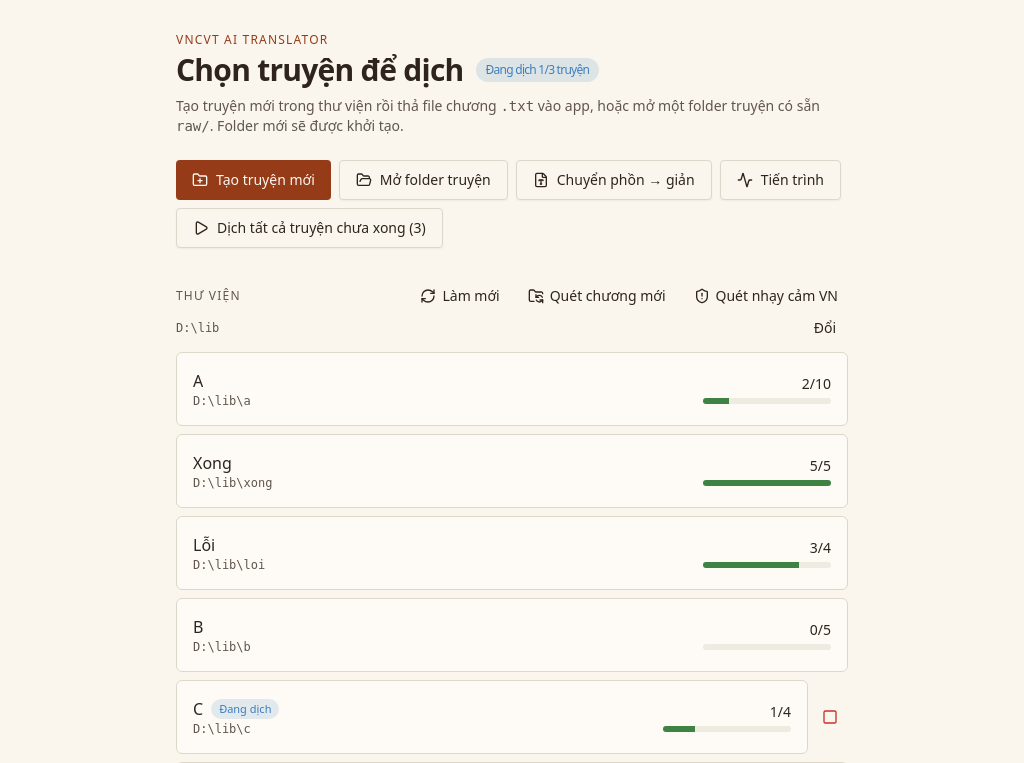
Test case: StoryPicker · Thư viện › Dịch tất cả truyện chưa xong › bỏ tick hết thì không bắt đầu được
The image size is (1024, 763).
Check: the text "A" is shown, box [193,369,203,393]
Click the button "Dịch tất cả truyện chưa xong (3)" at (309, 228), box [176,208,443,248]
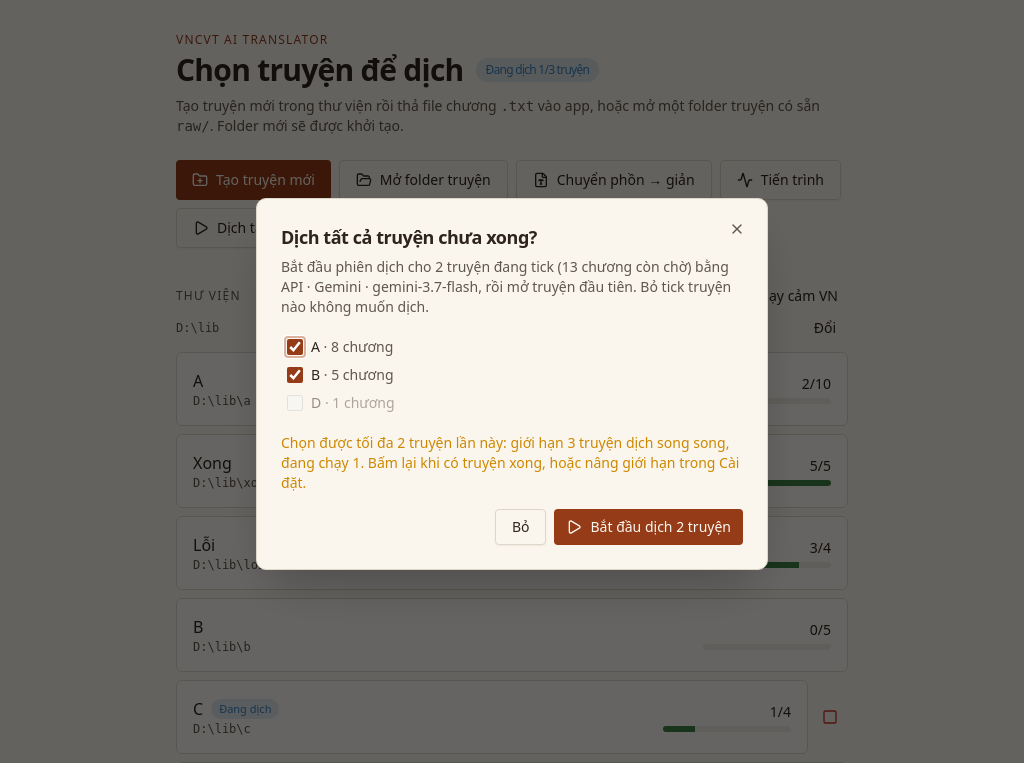
Click the checkbox labelled "A · 8 chương" at (295, 347), box [287,339,303,355]
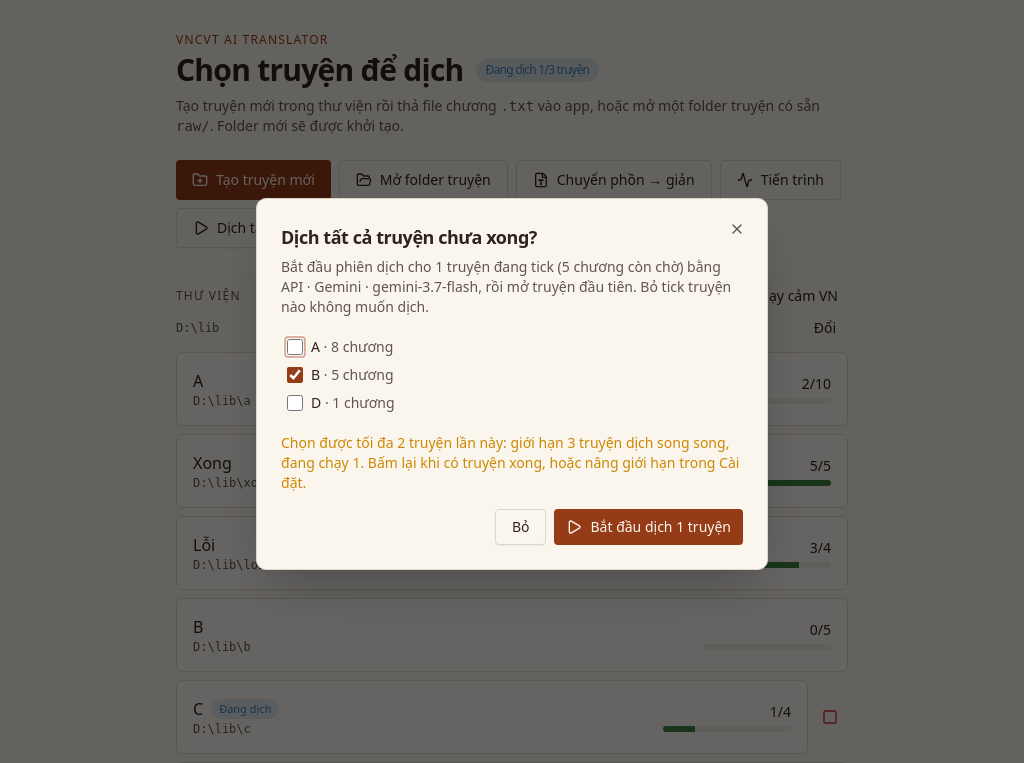
Click the checkbox labelled "B · 5 chương" at (295, 375), box [287,367,303,383]
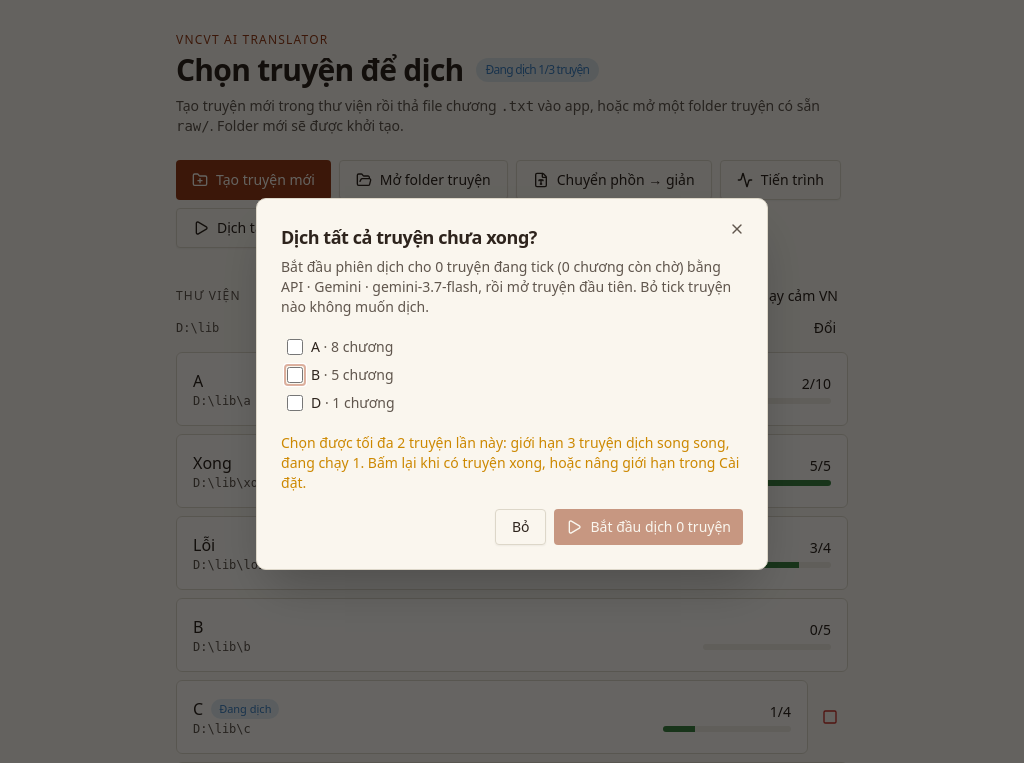
Check: the button "Bắt đầu dịch 0 truyện" is disabled, box [554,509,743,545]
